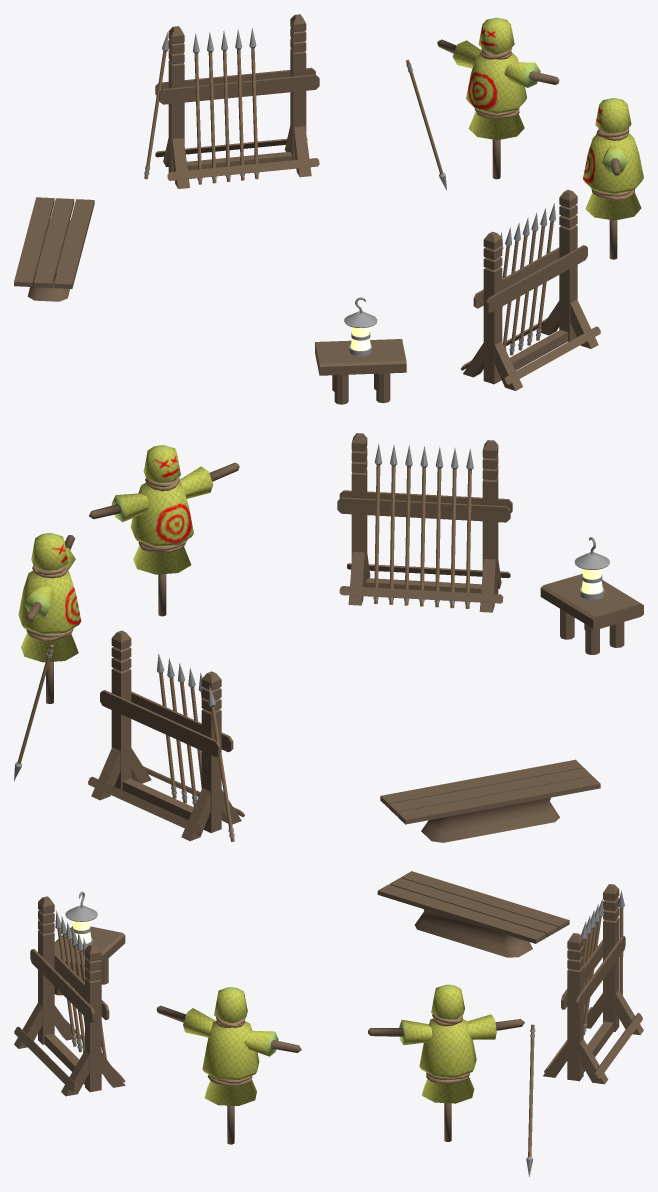
Rendered from TrainingGround.gltf.
3 renders of one model, top to bottom at view 1: azimuth 30°, elevation 25°; view 2: azimuth 150°, elevation 25°; view 3: azimuth 270°, elevation 25°, orthographic. The views are drawn at different scales.
Visible parts, largest first — view 1: Stand.001, Stand, Dummy, Bench, Dummy.001, SmallTable, Spear, Spear.001, Lamp, Spear.002, Spear.003; view 2: Stand, Stand.001, Bench, Dummy.001, Dummy, Spear.001, SmallTable, Spear, Lamp, Spear.002, Spear.003; view 3: Stand.001, Stand, Bench, Dummy, Dummy.001, Spear.001, SmallTable, Spear, Lamp, Spear.003.
Part boxes in pixels (x1=…): Stand.001: x1=461, y1=189, x2=600, y2=390; Stand: x1=155, y1=14, x2=319, y2=188; Dummy: x1=437, y1=17, x2=559, y2=179; Bench: x1=14, y1=197, x2=94, y2=301; Dummy.001: x1=583, y1=98, x2=643, y2=259; SmallTable: x1=315, y1=339, x2=406, y2=404; Spear: x1=193, y1=28, x2=259, y2=184; Spear.001: x1=500, y1=203, x2=555, y2=355; Lamp: x1=344, y1=297, x2=377, y2=356; Spear.002: x1=144, y1=32, x2=168, y2=179; Spear.003: x1=406, y1=59, x2=446, y2=190; Stand: x1=88, y1=630, x2=244, y2=841; Stand.001: x1=337, y1=433, x2=512, y2=612; Bench: x1=380, y1=759, x2=600, y2=842; Dummy.001: x1=89, y1=445, x2=239, y2=616; Dummy: x1=18, y1=533, x2=81, y2=703; Spear.001: x1=373, y1=443, x2=473, y2=608; SmallTable: x1=540, y1=573, x2=643, y2=654; Spear: x1=157, y1=653, x2=203, y2=806; Lamp: x1=574, y1=537, x2=609, y2=599; Spear.002: x1=208, y1=685, x2=234, y2=841; Spear.003: x1=14, y1=645, x2=53, y2=780; Stand.001: x1=14, y1=896, x2=125, y2=1096; Stand: x1=543, y1=884, x2=643, y2=1084; Bench: x1=377, y1=871, x2=569, y2=957; Dummy: x1=368, y1=984, x2=524, y2=1141; Dummy.001: x1=156, y1=987, x2=301, y2=1144; Spear.001: x1=55, y1=910, x2=106, y2=1074; SmallTable: x1=54, y1=926, x2=125, y2=995; Spear: x1=581, y1=898, x2=603, y2=1034; Lamp: x1=65, y1=891, x2=97, y2=947; Spear.003: x1=526, y1=1024, x2=535, y2=1176.
Bounding box in the file's own units: 7.98 × 2.82 × 8.26.
7 materials, 1 textured.
